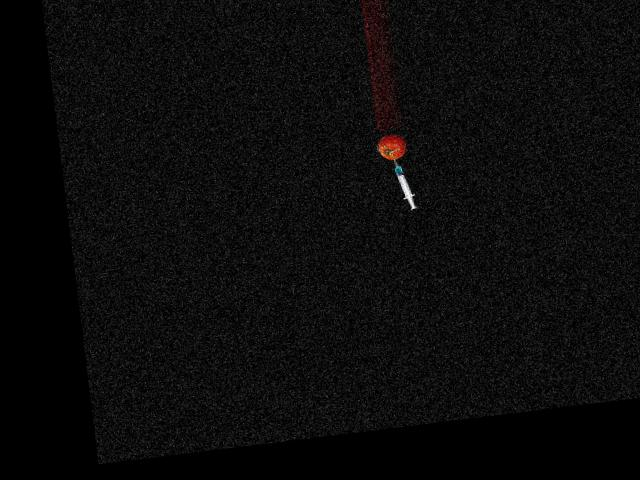tomato: (376, 132, 407, 161)
